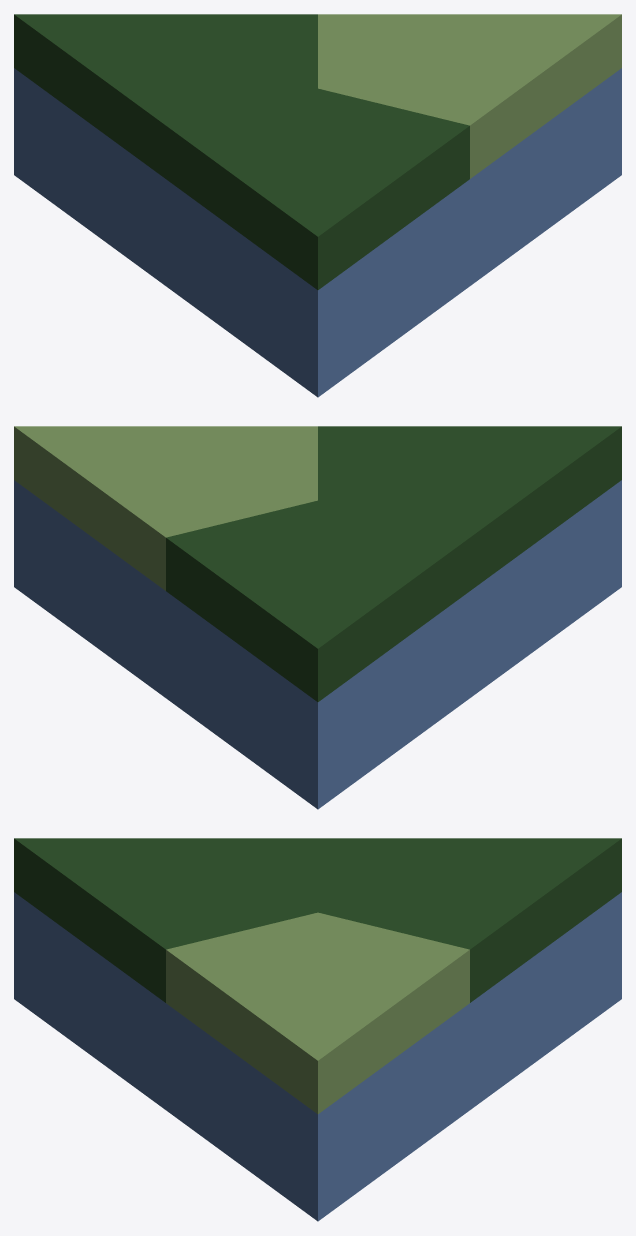
File: tri_18.glb
The picture shows the model from 3 angles, top to bottom: view 1: azimuth 30°, elevation 25°; view 2: azimuth 150°, elevation 25°; view 3: azimuth 270°, elevation 25°; orthographic projection.
Visible parts, largest first — view 1: tri_18; view 2: tri_18; view 3: tri_18.
Boxes of the visible parts, bbox=[...] form: tri_18: bbox=[14, 14, 621, 397]; tri_18: bbox=[14, 426, 621, 809]; tri_18: bbox=[14, 838, 621, 1221].
Size of the model in its own units: 0.7423 by 0.25 by 0.8571.
